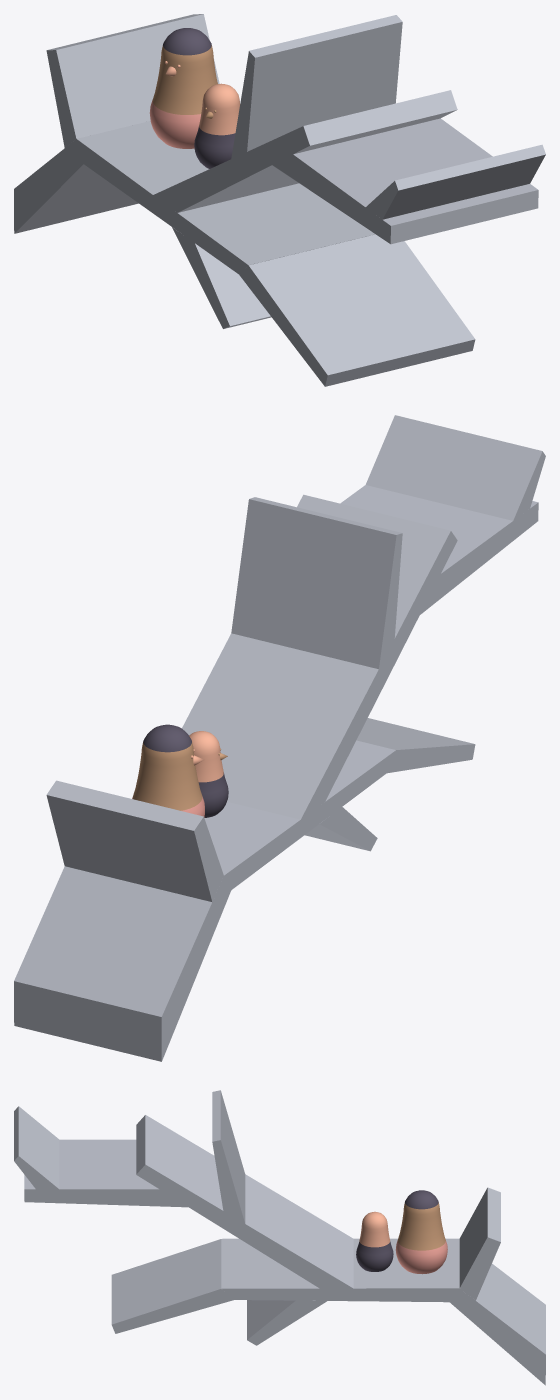
The model's file is Furn3_bookcase_right_color3_joined.fbx.
The picture shows the model from 3 angles, top to bottom: view 1: azimuth 30°, elevation 25°; view 2: azimuth 150°, elevation 25°; view 3: azimuth 270°, elevation 25°; orthographic projection. The views are drawn at different scales.
Visible parts, largest first — view 1: Сфера.030; view 2: Сфера.030; view 3: Сфера.030.
Boxes of the visible parts, bbox=[...] form: Сфера.030: bbox=[14, 14, 545, 386]; Сфера.030: bbox=[14, 415, 545, 1061]; Сфера.030: bbox=[14, 1090, 545, 1385].
Bounding box in the file's own units: 77.77 × 179 × 351.
